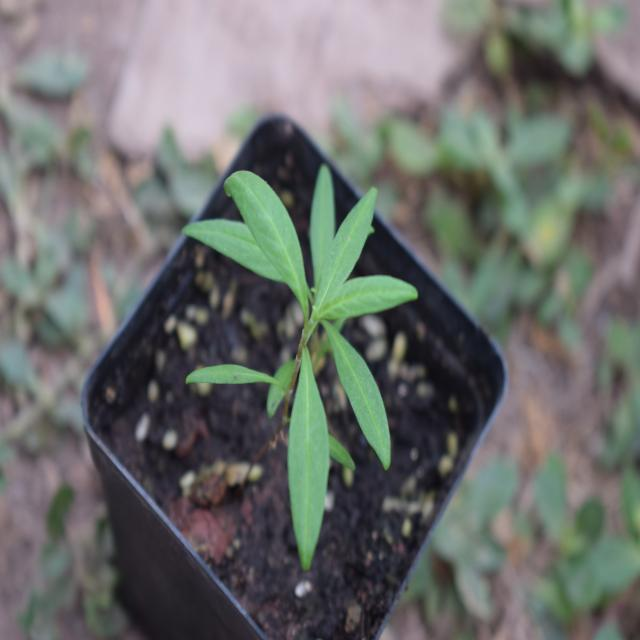white_smart_weed: (172, 142, 409, 548)
